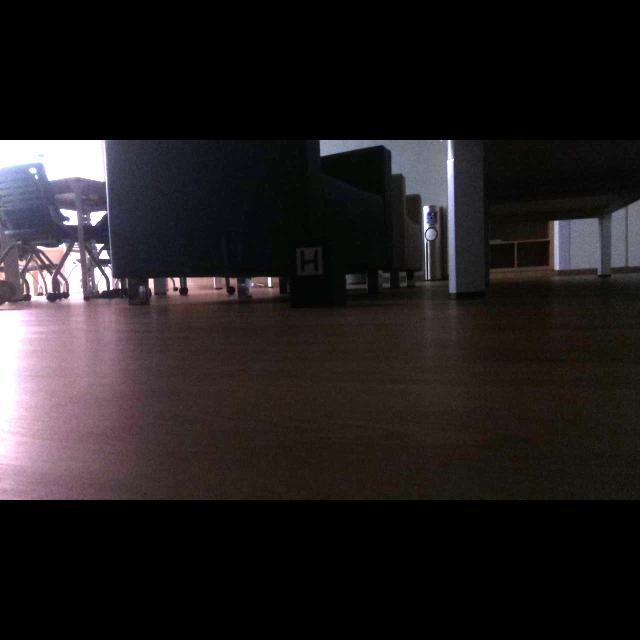H: (300, 250, 319, 272)
